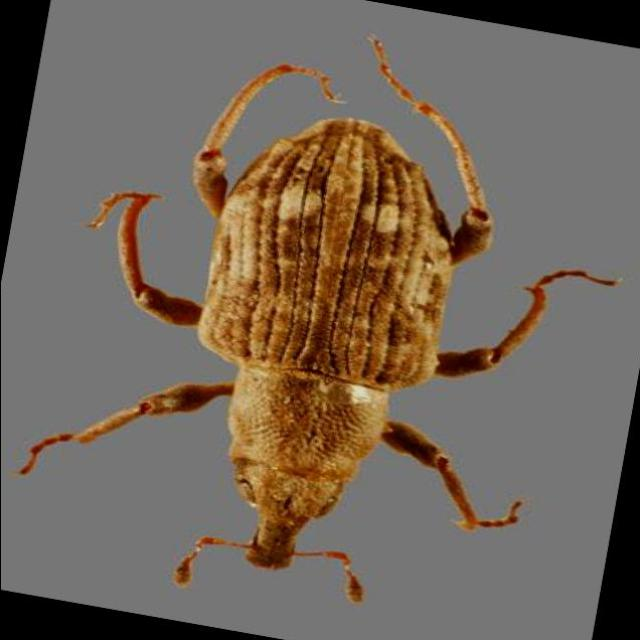ricebug: (20, 65, 601, 571)
